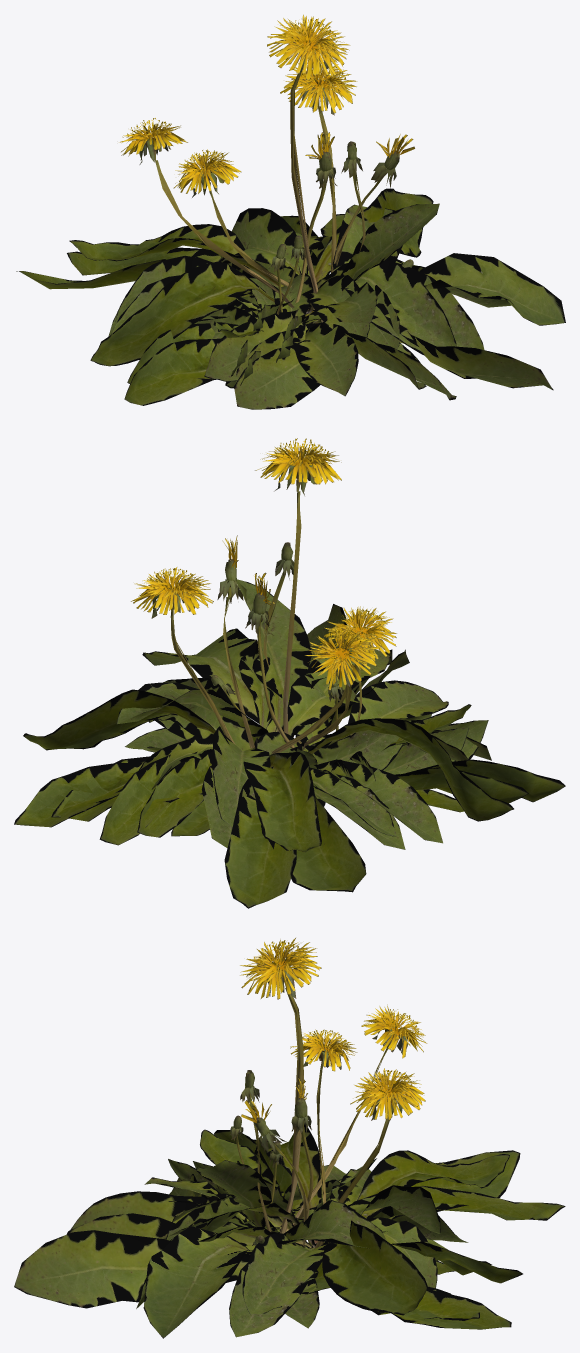
File: ph_dandelion_01.glb
The picture shows the model from 3 angles, top to bottom: view 1: azimuth 30°, elevation 25°; view 2: azimuth 150°, elevation 25°; view 3: azimuth 270°, elevation 25°; orthographic projection. The views are drawn at different scales.
Parts seen in each view (by area): view 1: v0, v4, v1, v2, v3; view 2: v0, v1, v4, v2, v3; view 3: v0, v4, v1, v2, v3.
Part boxes in pixels (x1=…): v0: x1=67, y1=14, x2=565, y2=409; v4: x1=69, y1=188, x2=456, y2=389; v1: x1=16, y1=60, x2=511, y2=400; v2: x1=220, y1=132, x2=358, y2=396; v3: x1=194, y1=244, x2=420, y2=388; v0: x1=51, y1=438, x2=565, y2=908; v1: x1=14, y1=535, x2=528, y2=892; v4: x1=23, y1=649, x2=513, y2=852; v2: x1=125, y1=572, x2=469, y2=836; v3: x1=147, y1=675, x2=488, y2=806; v0: x1=14, y1=938, x2=565, y2=1338; v4: x1=70, y1=1125, x2=509, y2=1315; v1: x1=66, y1=1029, x2=522, y2=1337; v2: x1=168, y1=1078, x2=468, y2=1328; v3: x1=168, y1=1129, x2=439, y2=1294.
Size of the model in its own units: 0.2217 by 0.1643 by 0.2575.
1 material, 1 textured.
